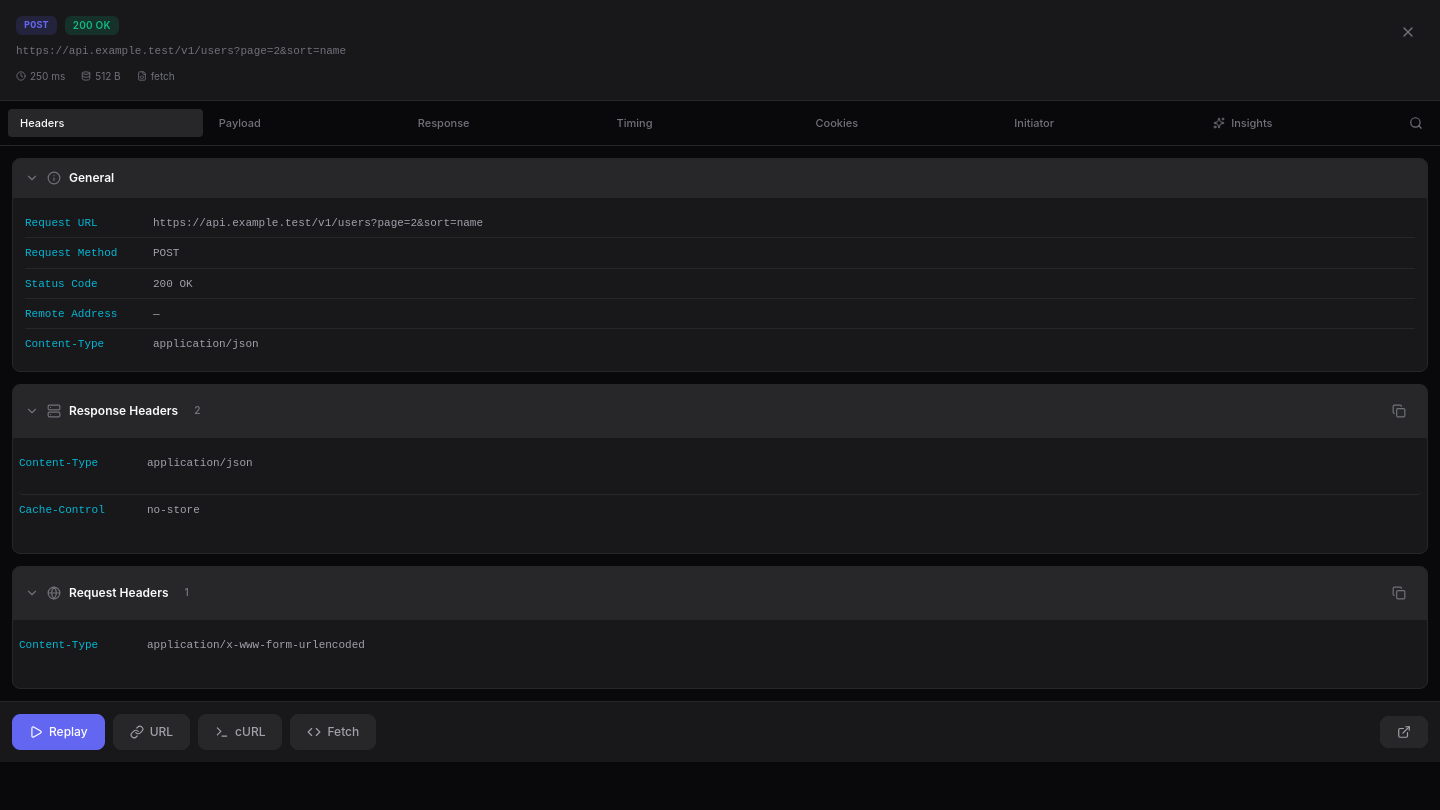
NetworkRequestDetails (HTTP) › renders query params and a parsed URL-encoded body on the Payload tab
Click the button "Payload" at (304, 123), box [207, 109, 402, 137]
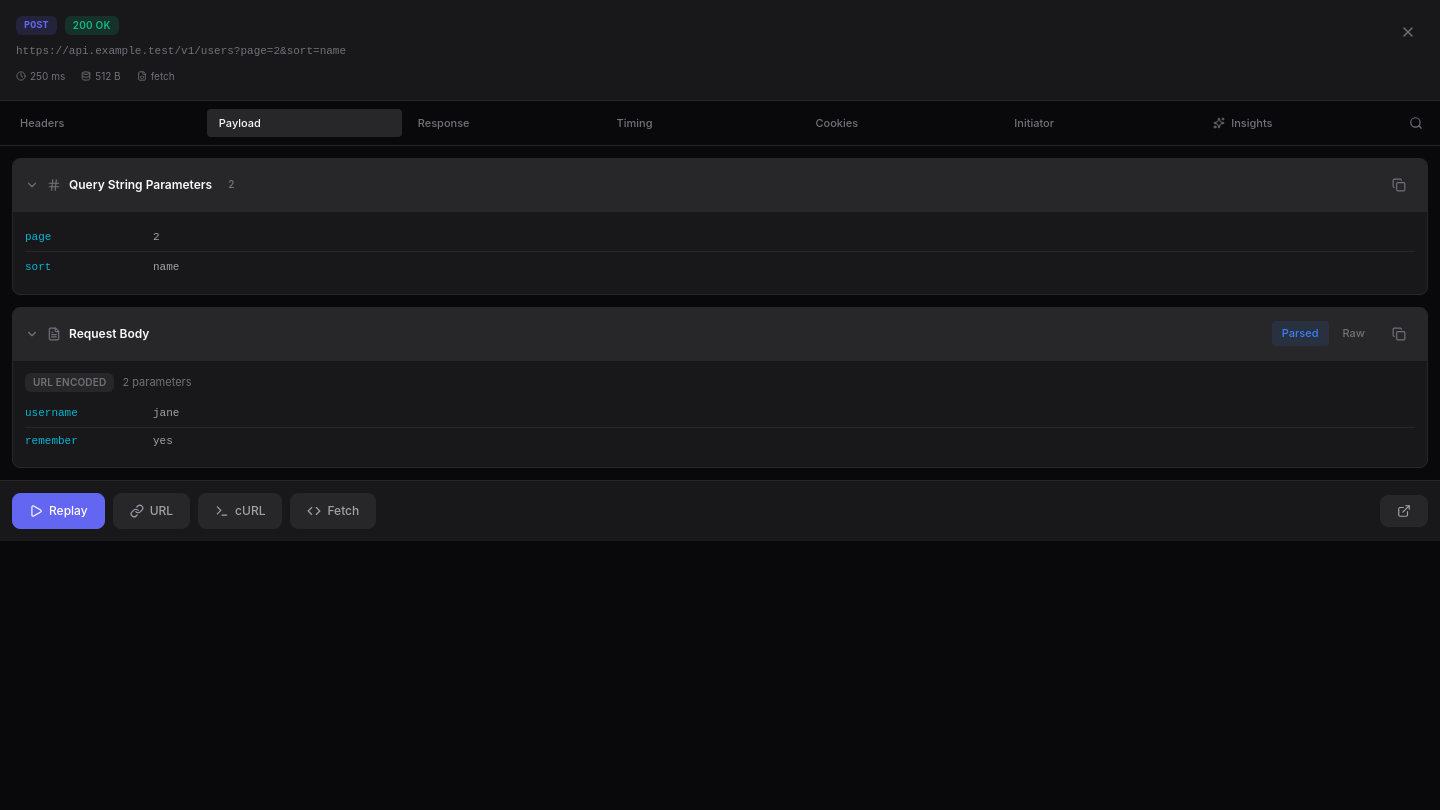
Check: the text "name" is shown, box [153, 261, 179, 273]
Check: the text "URL Encoded" is shown, box [25, 373, 114, 392]
Check: the text "2 parameters" is shown, box [122, 374, 192, 390]
Click the button "Raw" at (1354, 334), box [1332, 321, 1375, 346]
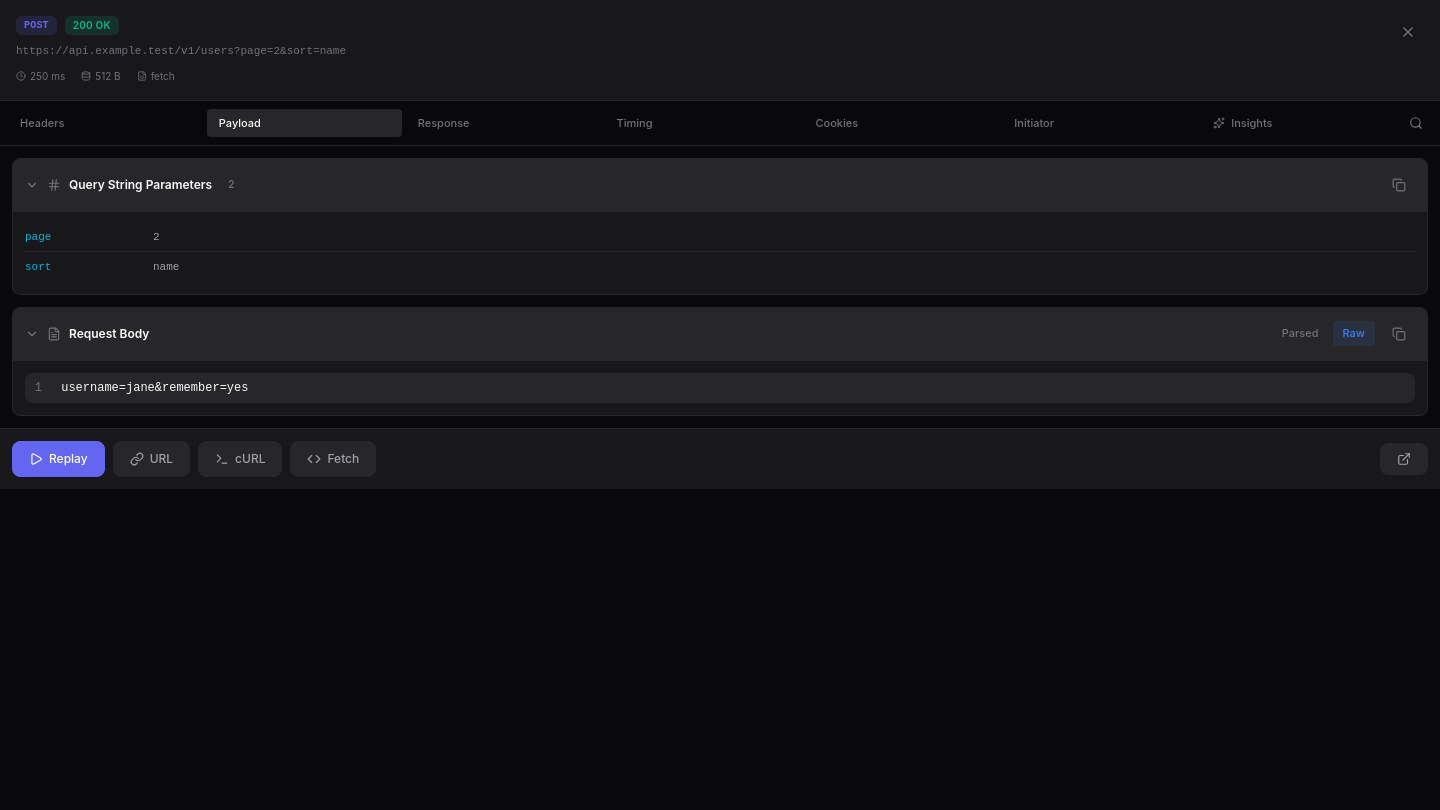
Check: the text "URL Encoded" is gone
Check: the field with class "cm-content" reads "username=jane&remember=yes", box [61, 381, 248, 395]
